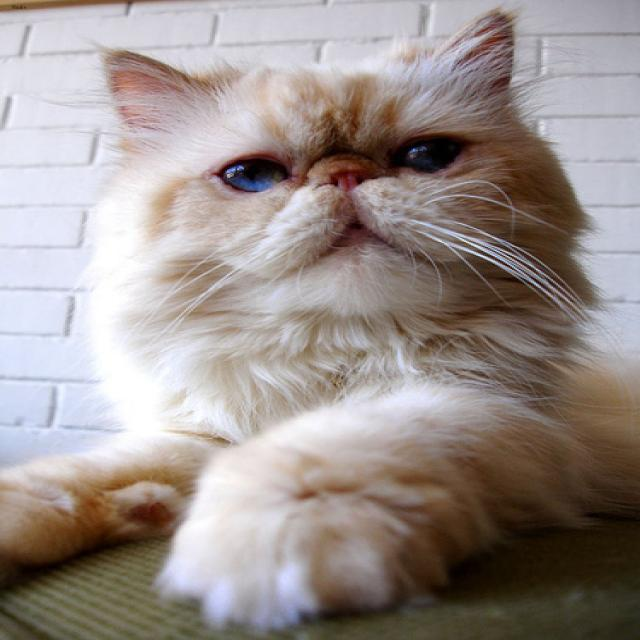Persian: (91, 5, 582, 340)
